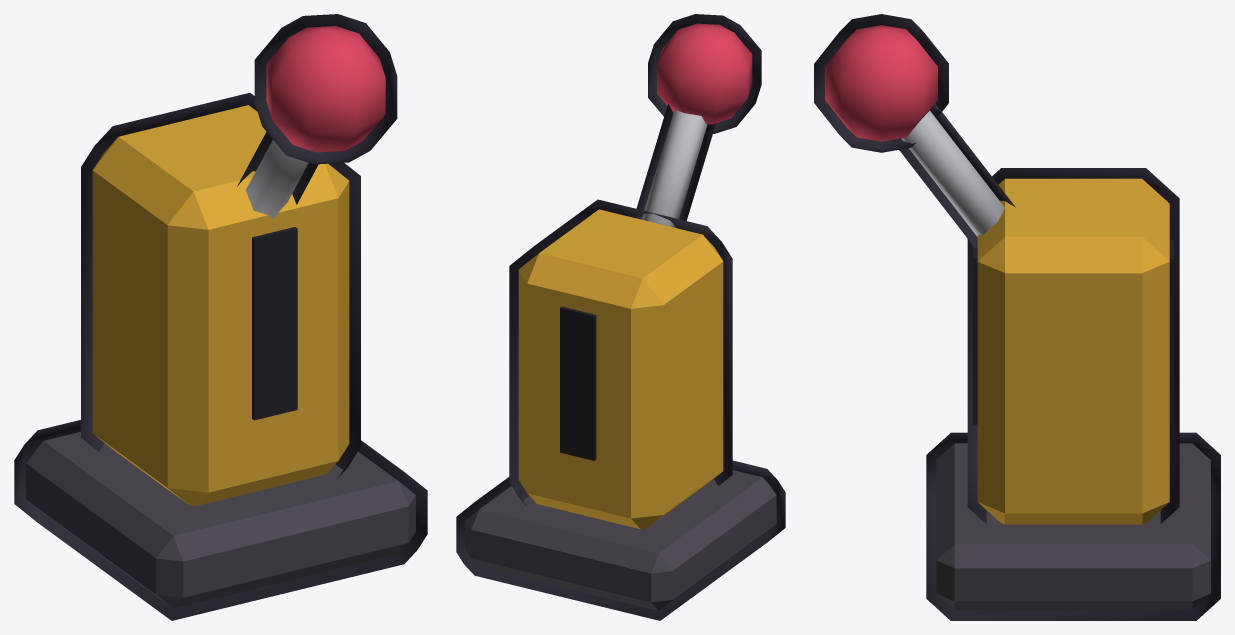
File: switch.glb
3 views of the same model, side by side, from view 1: azimuth 30°, elevation 25°; view 2: azimuth 150°, elevation 25°; view 3: azimuth 270°, elevation 25° (orthographic). The views are drawn at different scales.
Parts seen in each view (by area): view 1: switch; view 2: switch; view 3: switch.
Boxes of the visible parts, left/top/right/bottom form: switch: left=14, top=14, right=427, bottom=620; switch: left=456, top=14, right=785, bottom=620; switch: left=814, top=14, right=1220, bottom=620.
Bounding box in the file's own units: 0.6438 × 1.33 × 0.8895.
